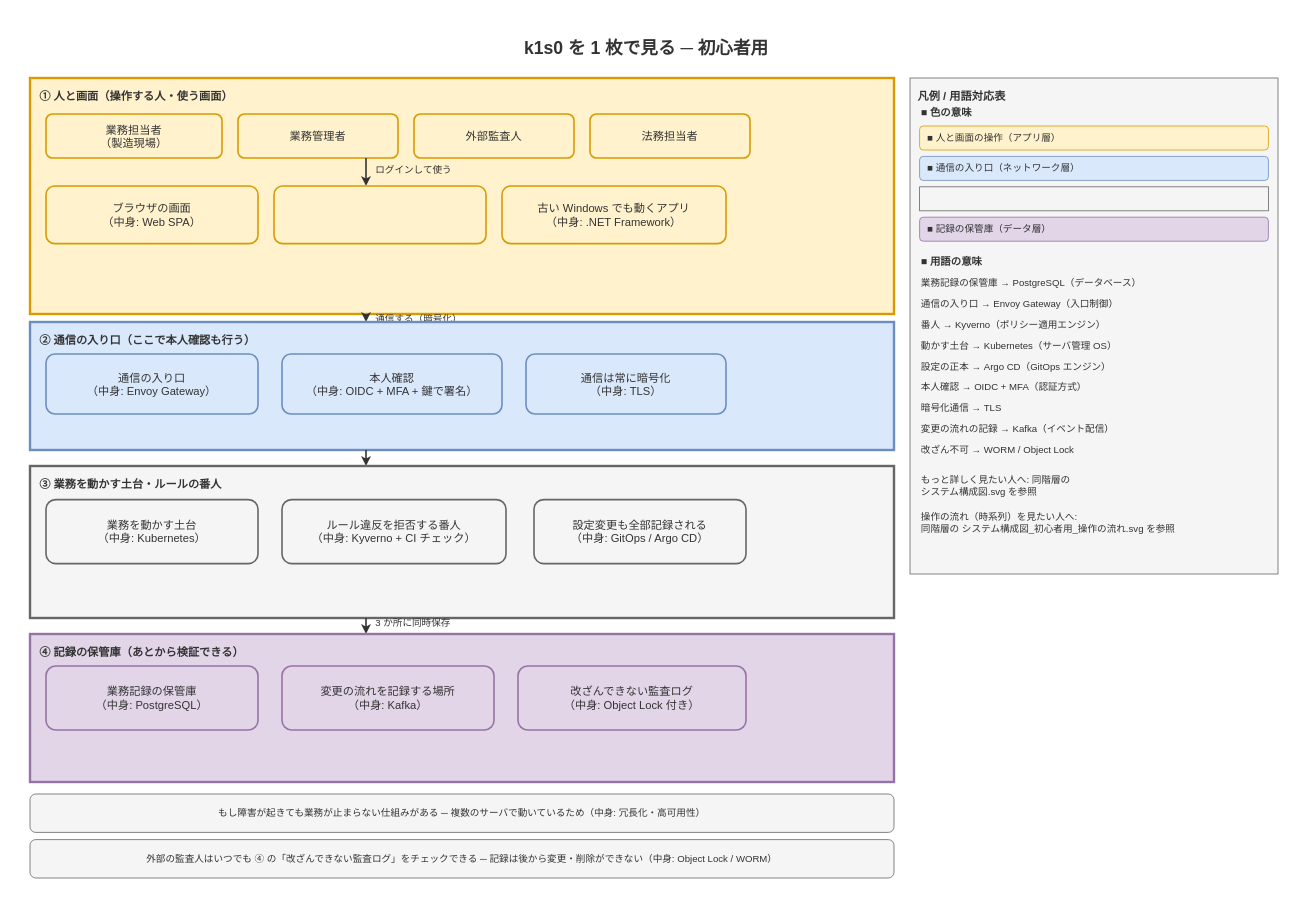
The diagram is 1307 pixels wide and 907 high, and some of its shapes have lost their labels. Each missing label, with the centre of its shape:
■ 動かす土台・ルールの番人（インフラ層）: (1093,198)
デスクトップアプリ （中身: Tauri exe）: (379,214)
